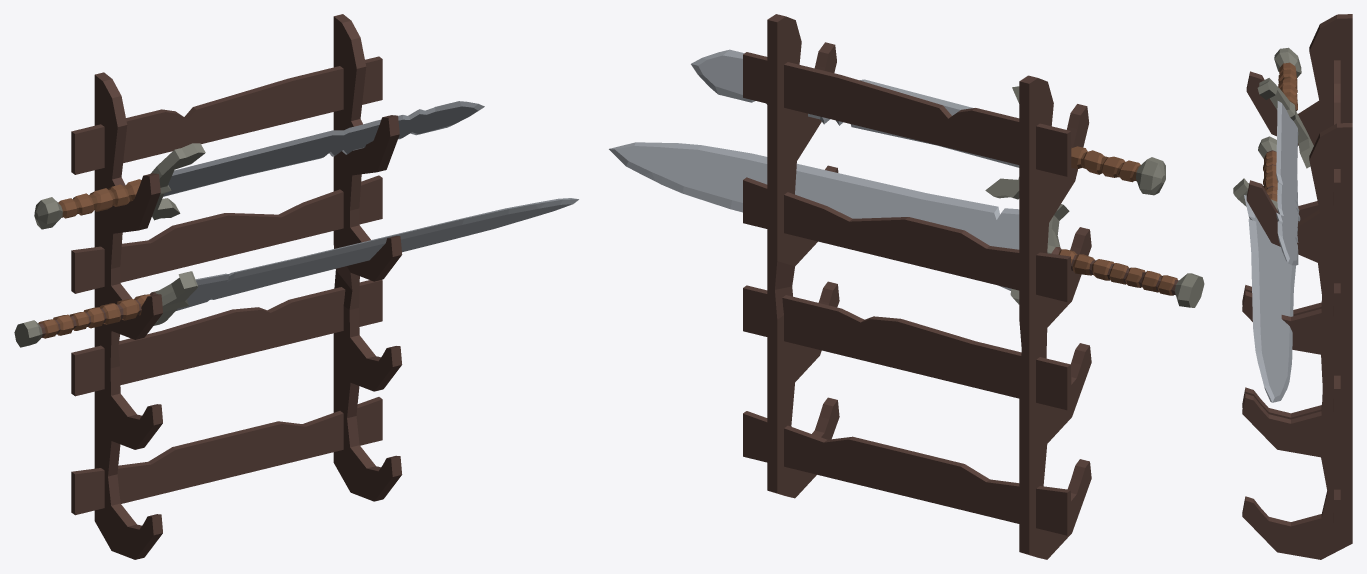
File: Sword_WallMount-transformed.glb
The picture shows the model from 3 angles, left to right: view 1: azimuth 30°, elevation 25°; view 2: azimuth 150°, elevation 25°; view 3: azimuth 270°, elevation 25°; orthographic projection. The views are drawn at different scales.
Parts seen in each view (by area): view 1: Sword_WallMount; view 2: Sword_WallMount; view 3: Sword_WallMount.
Boxes of the visible parts, x1,y1,x2,y2 form: Sword_WallMount: (14, 14, 578, 559); Sword_WallMount: (609, 14, 1204, 559); Sword_WallMount: (1233, 14, 1352, 559).
Size of the model in its own units: 1.07 by 0.8472 by 0.2117.
1 material, 1 textured.
